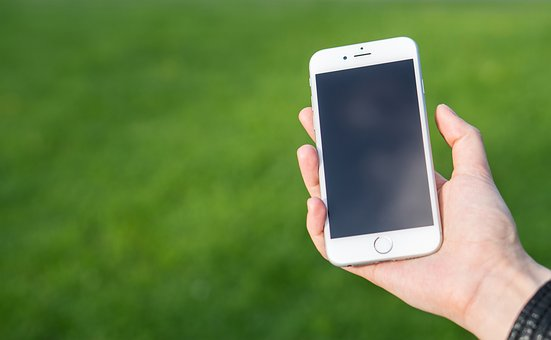mobile: (304, 33, 455, 268)
